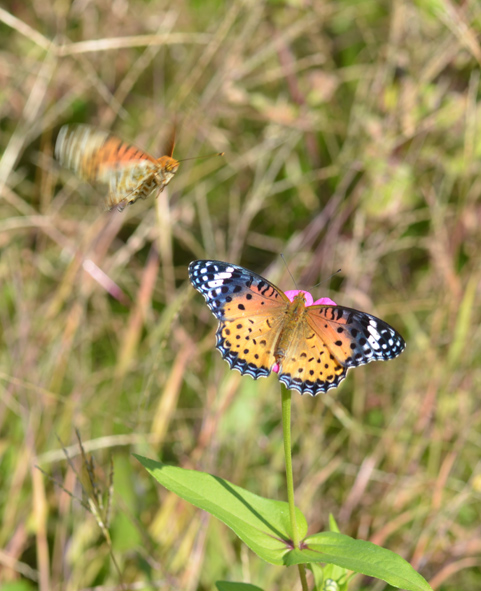Argyreus hyperbius: (181, 245, 412, 397)
butterfly: (183, 247, 414, 399)
